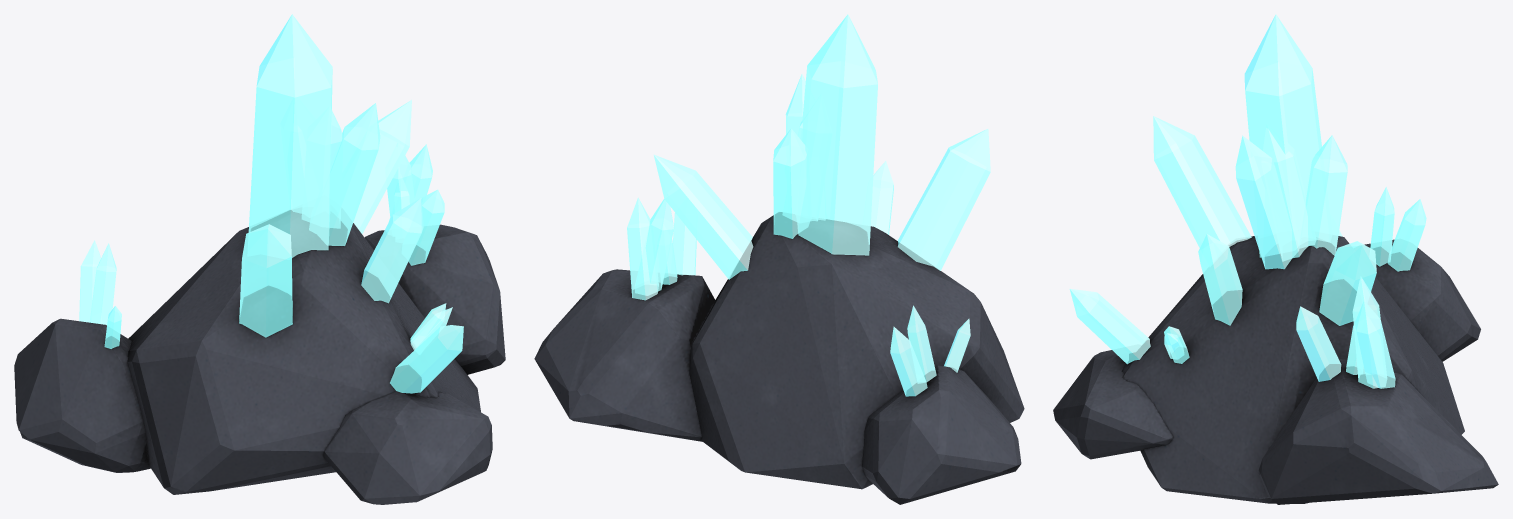
Rendered from cenario_veio_ferro.glb.
3 views of the same model, side by side, from view 1: azimuth 30°, elevation 25°; view 2: azimuth 150°, elevation 25°; view 3: azimuth 270°, elevation 25° (orthographic). The views are drawn at different scales.
Parts seen in each view (by area): view 1: cenario_veio_ferro_tronco, cenario_veio_ferro_cristais; view 2: cenario_veio_ferro_tronco, cenario_veio_ferro_cristais; view 3: cenario_veio_ferro_tronco, cenario_veio_ferro_cristais.
Boxes of the visible parts, left/top/right/bottom form: cenario_veio_ferro_tronco: left=14, top=210, right=505, bottom=504; cenario_veio_ferro_cristais: left=79, top=14, right=463, bottom=393; cenario_veio_ferro_tronco: left=534, top=212, right=1024, bottom=504; cenario_veio_ferro_cristais: left=627, top=14, right=990, bottom=396; cenario_veio_ferro_tronco: left=1053, top=236, right=1498, bottom=504; cenario_veio_ferro_cristais: left=1069, top=14, right=1426, bottom=388.
Size of the model in its own units: 1.52 by 1.29 by 1.26.
Materials: 2 (1 with a texture image).
